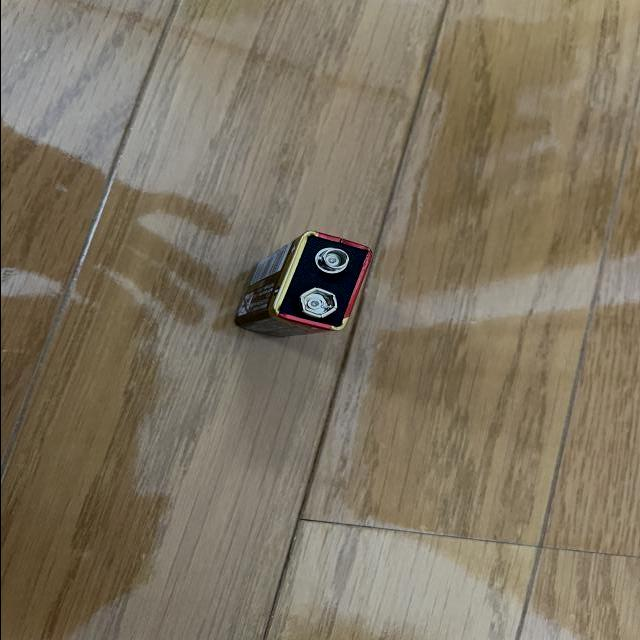9V: (234, 230, 371, 339)
